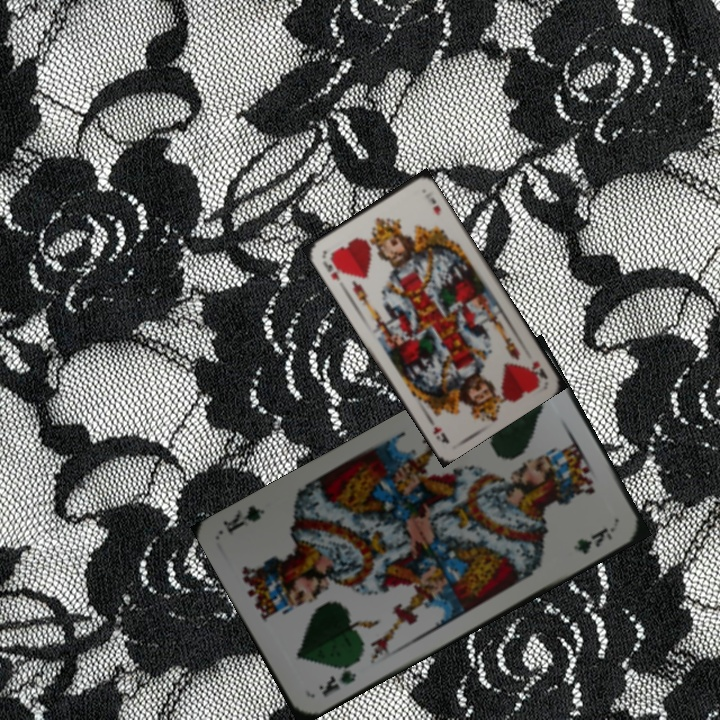GK: (314, 657, 360, 700)
HK: (318, 257, 343, 284), (527, 357, 550, 384)
